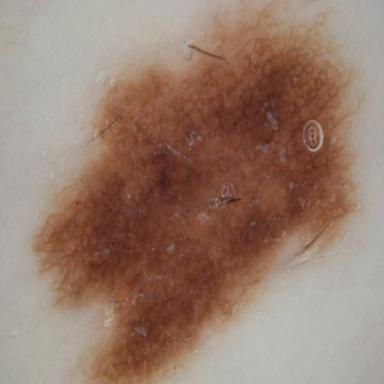nevus: (34, 7, 355, 381)
